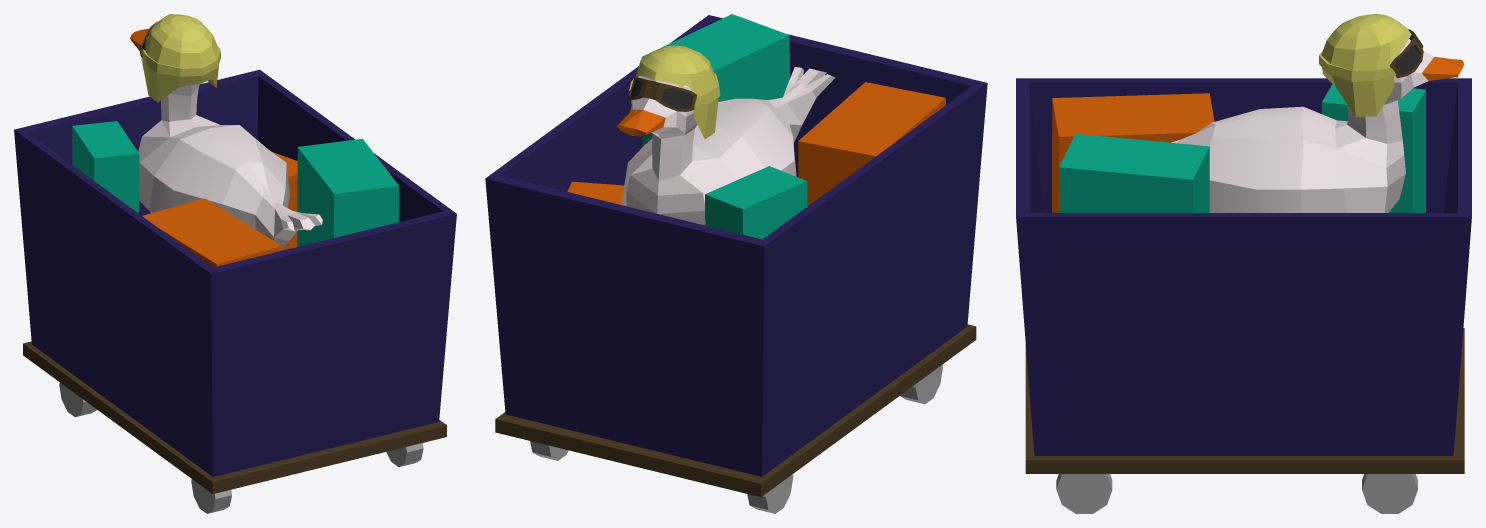
The model's file is DUCK IN KART W MATS V3.fbx.
3 views of the same model, side by side, from view 1: azimuth 30°, elevation 25°; view 2: azimuth 150°, elevation 25°; view 3: azimuth 270°, elevation 25° (orthographic). The views are drawn at different scales.
Visible parts, largest first — view 1: duck; view 2: duck; view 3: duck.
Part boxes in pixels (<box>): duck: <box>14,14,456,513</box>; duck: <box>485,14,987,513</box>; duck: <box>1016,14,1471,513</box>.
Bounding box in the file's own units: 126 × 185 × 175.
